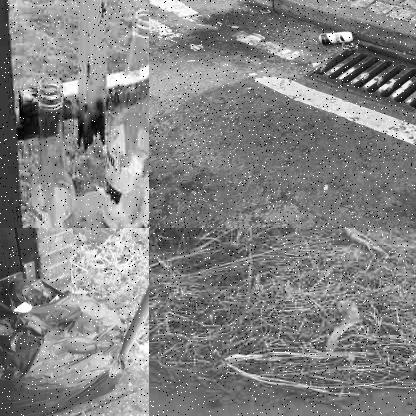glass: (106, 9, 148, 227), (30, 77, 80, 227)
metal: (321, 29, 356, 46)
plastic: (0, 279, 127, 415), (329, 298, 363, 354)
